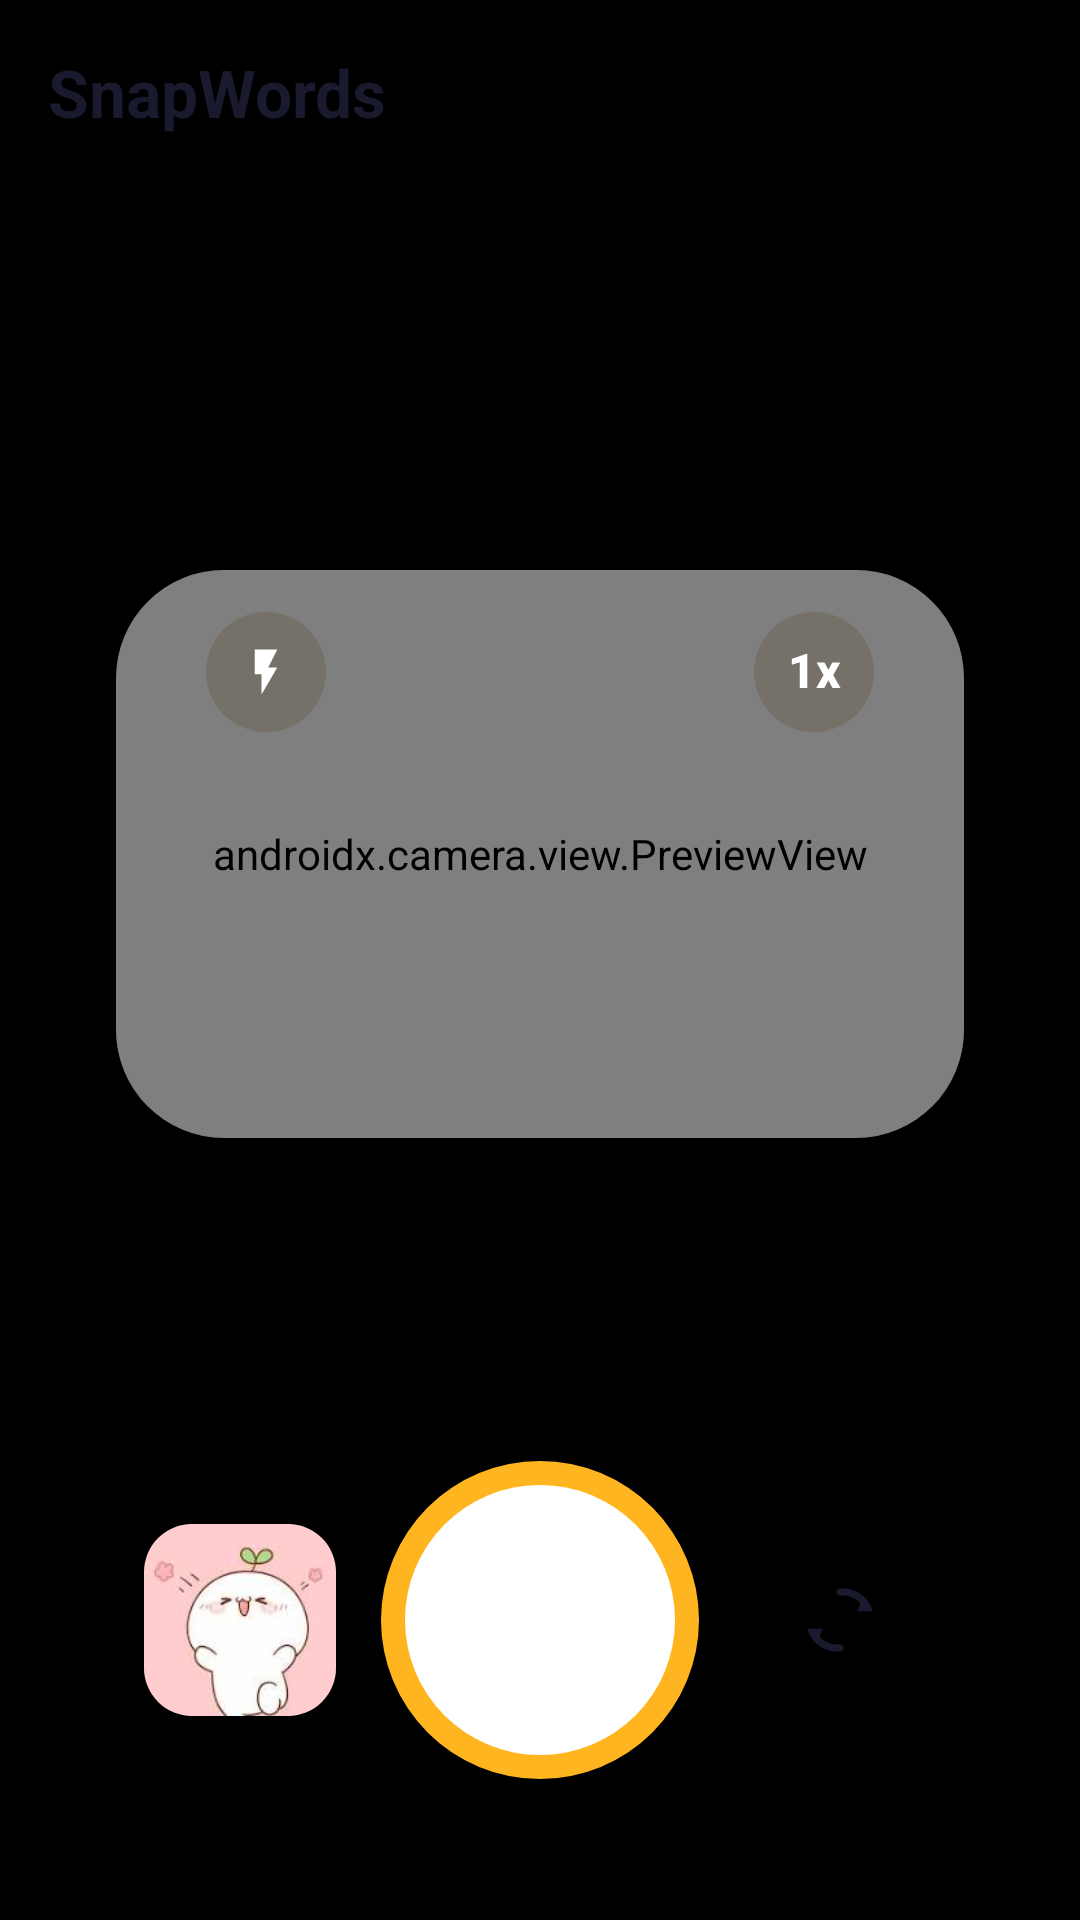

Icons on this 1080 x 1920 Android screen, each with its box as (x1, y1, x2, y2):
Flash: (254, 649, 277, 694)
Flip camera: (807, 1588, 873, 1651)
